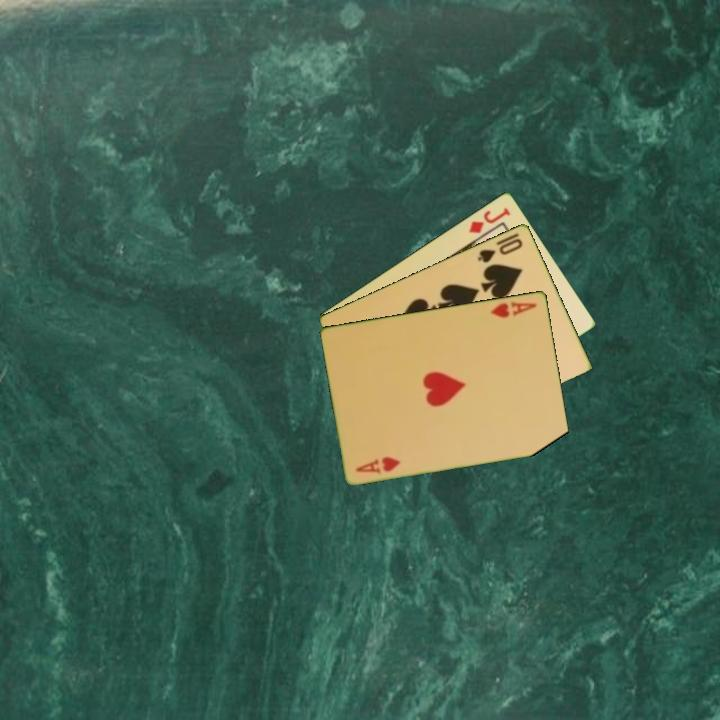10s: (474, 234, 526, 265)
Ah: (487, 297, 540, 320), (353, 453, 404, 476)
Jd: (465, 203, 514, 236)
